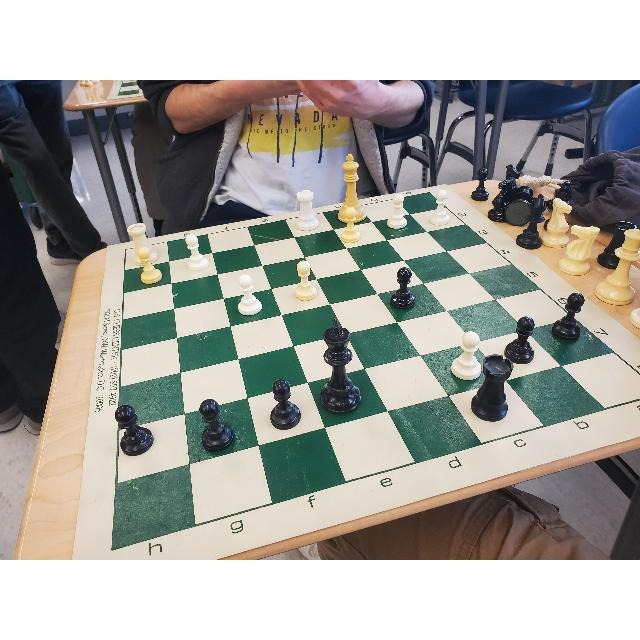black-king: (320, 317, 364, 414)
black-pawn: (113, 404, 155, 456), (199, 397, 237, 452), (550, 291, 585, 343), (270, 378, 302, 432), (503, 315, 537, 365), (388, 266, 417, 310)
black-rook: (466, 353, 516, 425), (470, 353, 514, 423)
white-king: (336, 152, 368, 223)
white-pawn: (450, 330, 484, 382), (235, 274, 267, 319), (291, 259, 320, 303), (135, 247, 166, 287), (183, 231, 209, 273), (339, 206, 362, 245), (384, 192, 407, 231), (428, 190, 451, 226)
white-rook: (127, 223, 161, 267), (292, 190, 322, 232)
